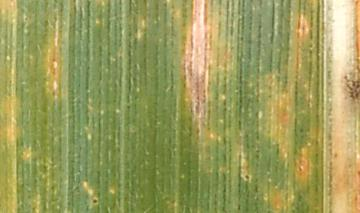tarspot: (90, 197, 100, 205), (242, 173, 252, 181)
